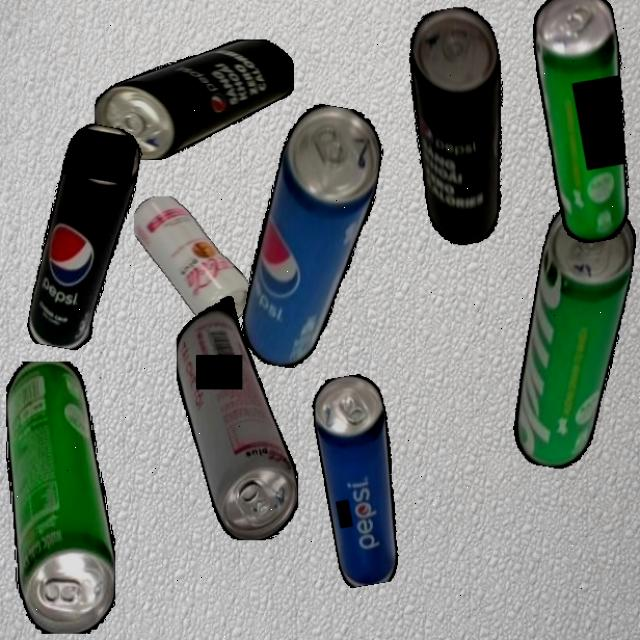debris: (236, 98, 390, 377), (506, 196, 640, 475), (395, 2, 530, 249), (5, 361, 116, 634), (176, 295, 298, 540), (520, 0, 640, 247), (25, 120, 145, 356), (95, 38, 294, 160), (308, 371, 414, 589), (134, 196, 251, 326)
